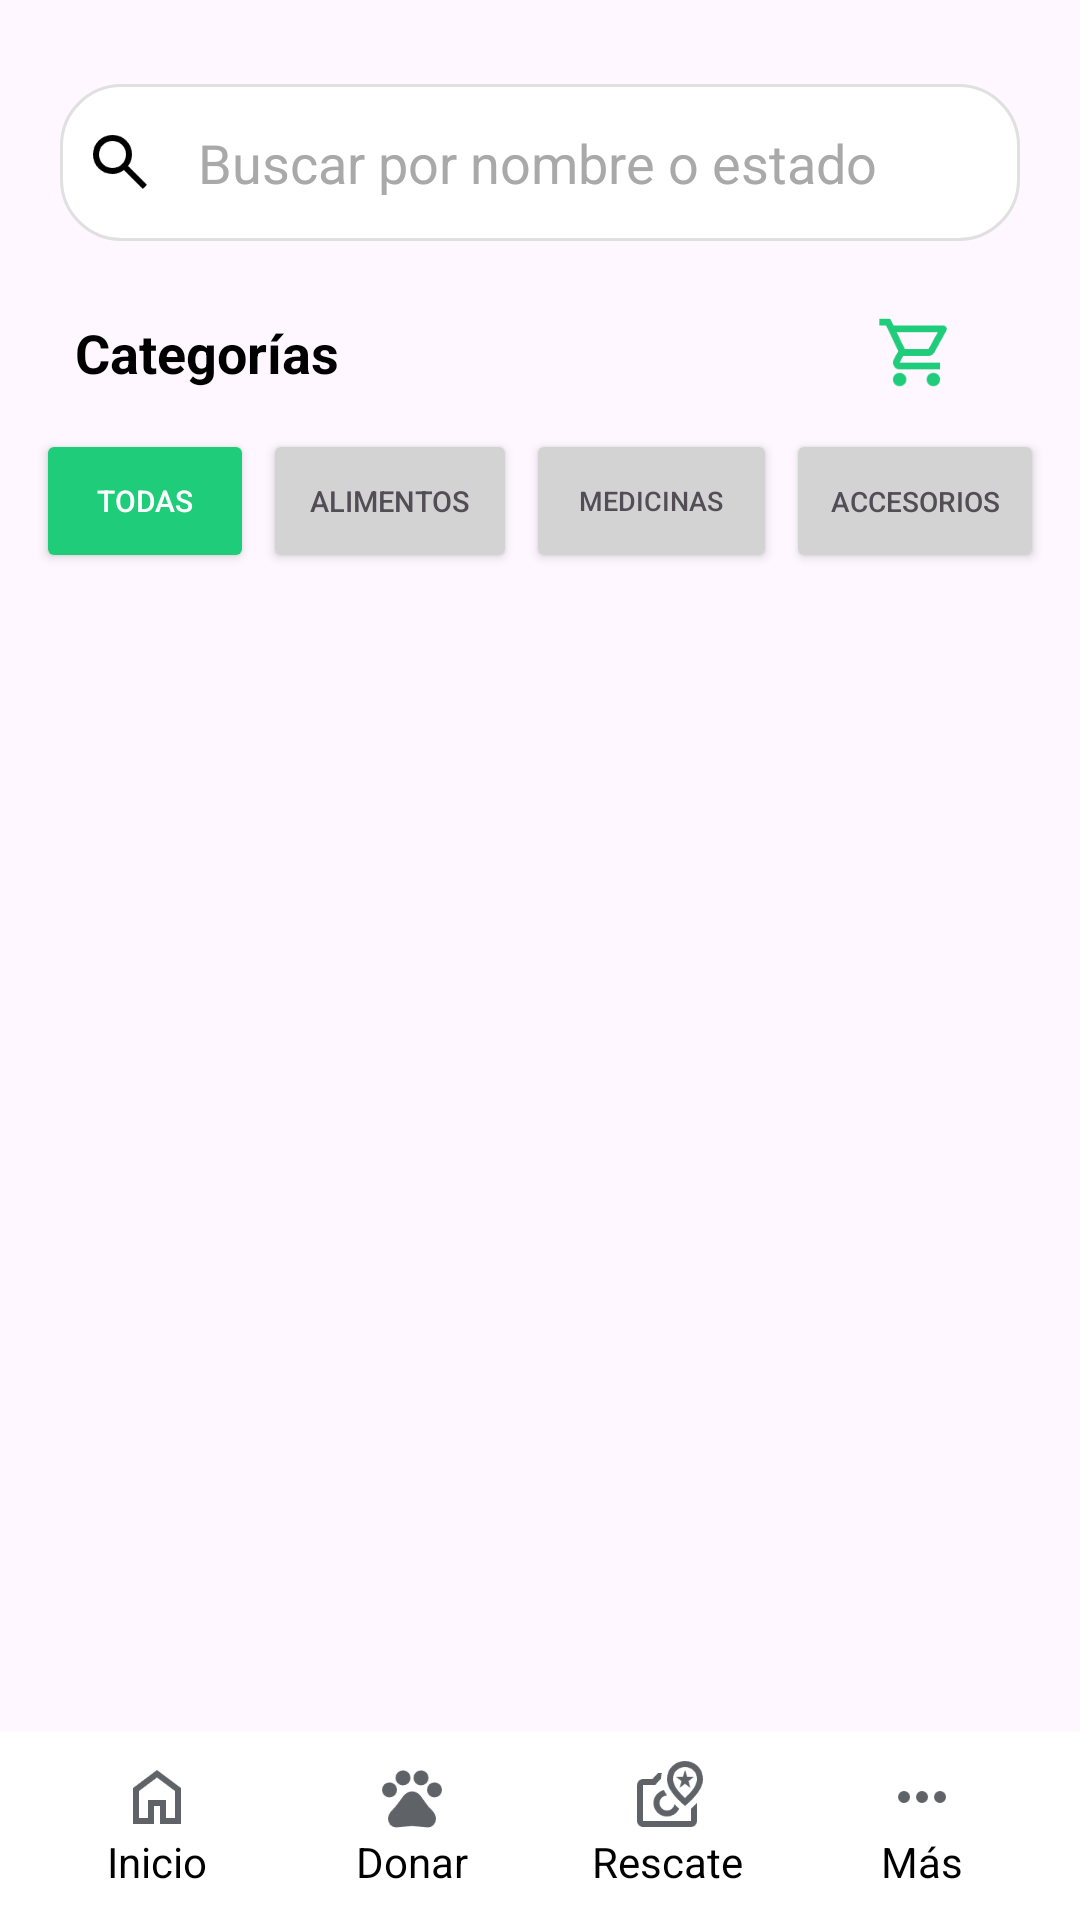

Locate icon controls on the screen. Image size 1080×1920, boxes as box=[x1, y1, x2, y2].
Ícono de búsqueda: box=[93, 135, 147, 189]
